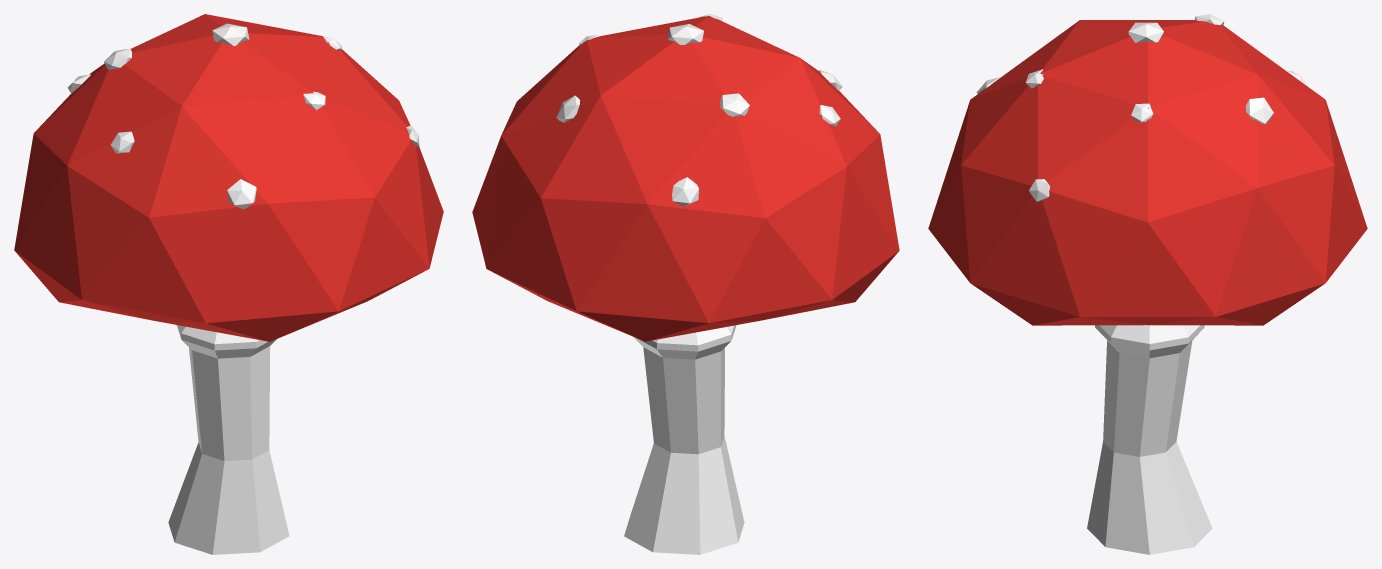
Rendered from mushroom-1.glb.
3 views of the same model, side by side, from view 1: azimuth 30°, elevation 25°; view 2: azimuth 150°, elevation 25°; view 3: azimuth 270°, elevation 25° (orthographic).
Parts seen in each view (by area): view 1: mushroom_1; view 2: mushroom_1; view 3: mushroom_1.
Part boxes in pixels (box(x1,y1,x2,y2)): mushroom_1: box(14, 14, 443, 554); mushroom_1: box(472, 14, 899, 554); mushroom_1: box(928, 14, 1367, 554).
Size of the model in its own units: 0.4816 by 0.6414 by 0.5064.
